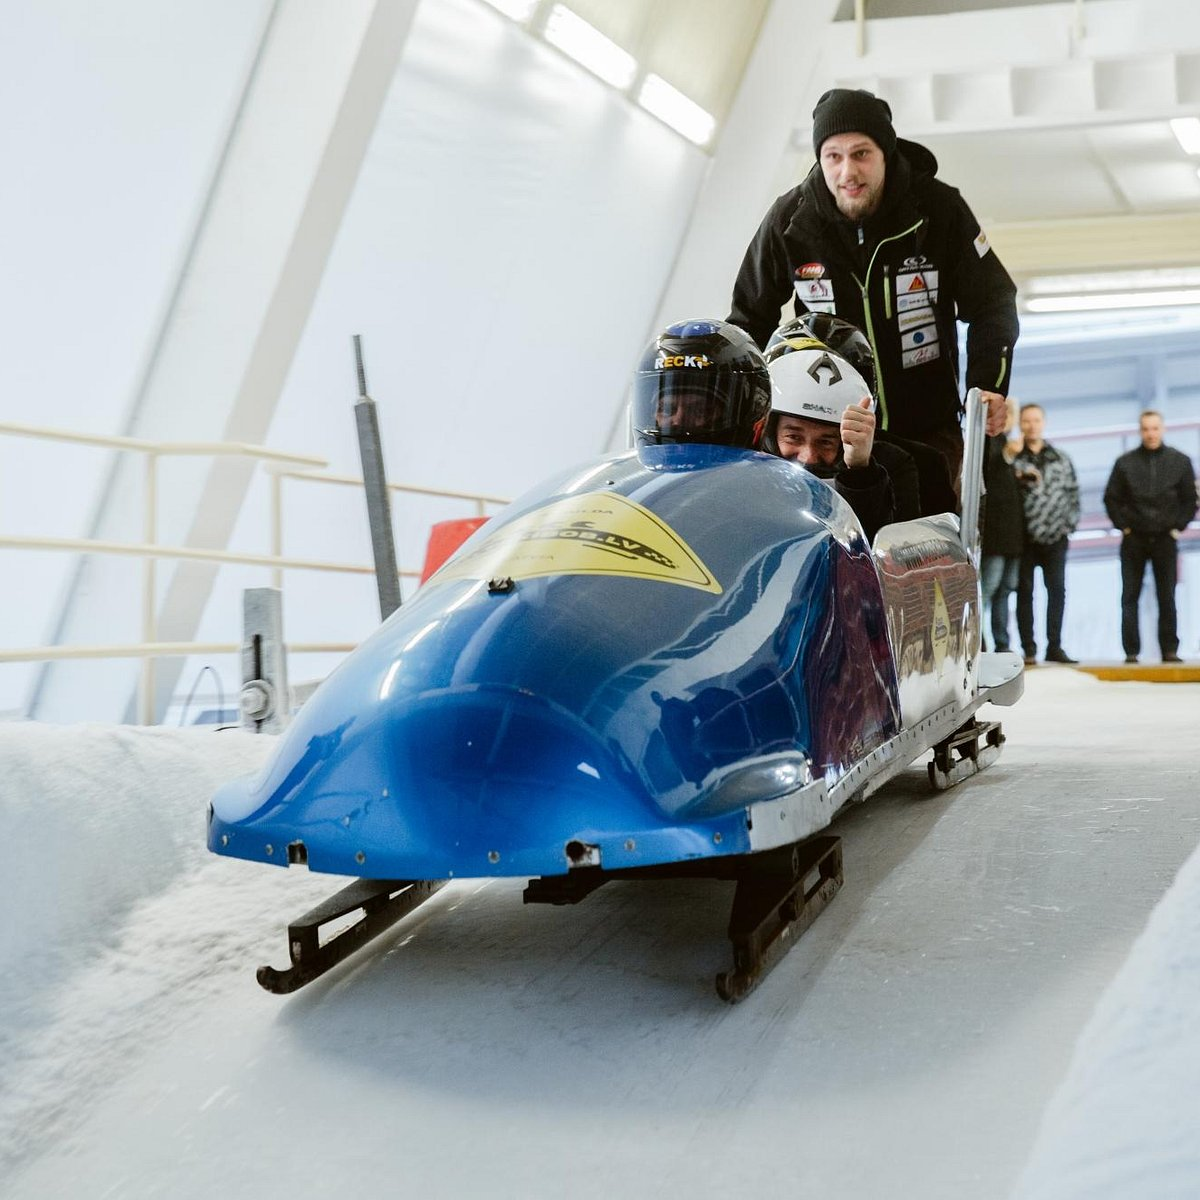Bobsleigh: (210, 487, 979, 976)
